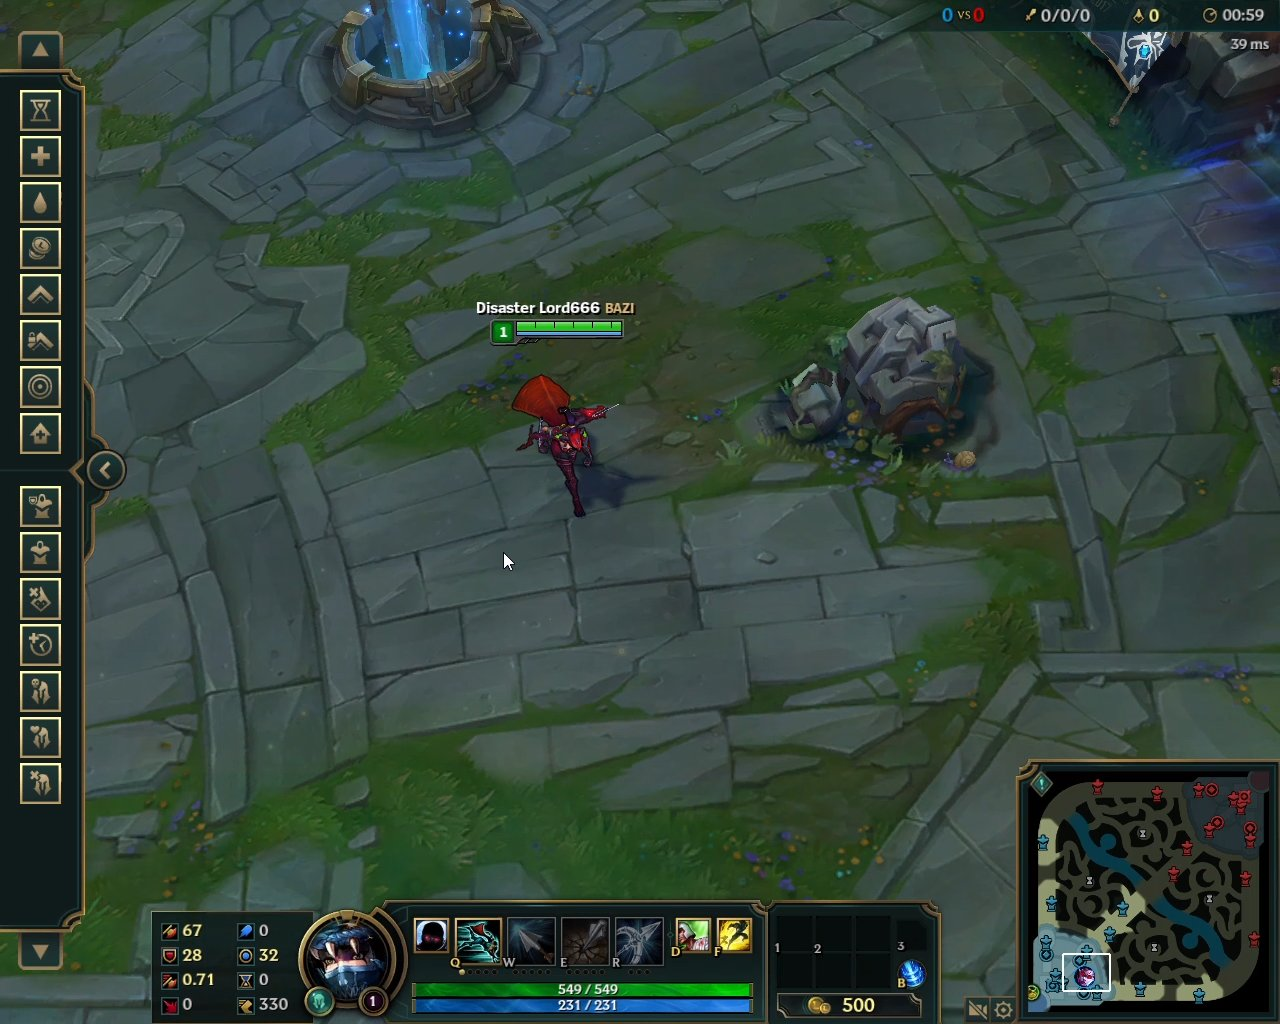Vayne: (508, 369, 630, 523)
